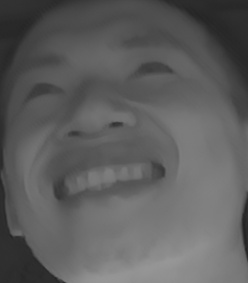eye: (126, 54, 176, 88), (19, 78, 65, 105)
mouth: (44, 149, 172, 210)
